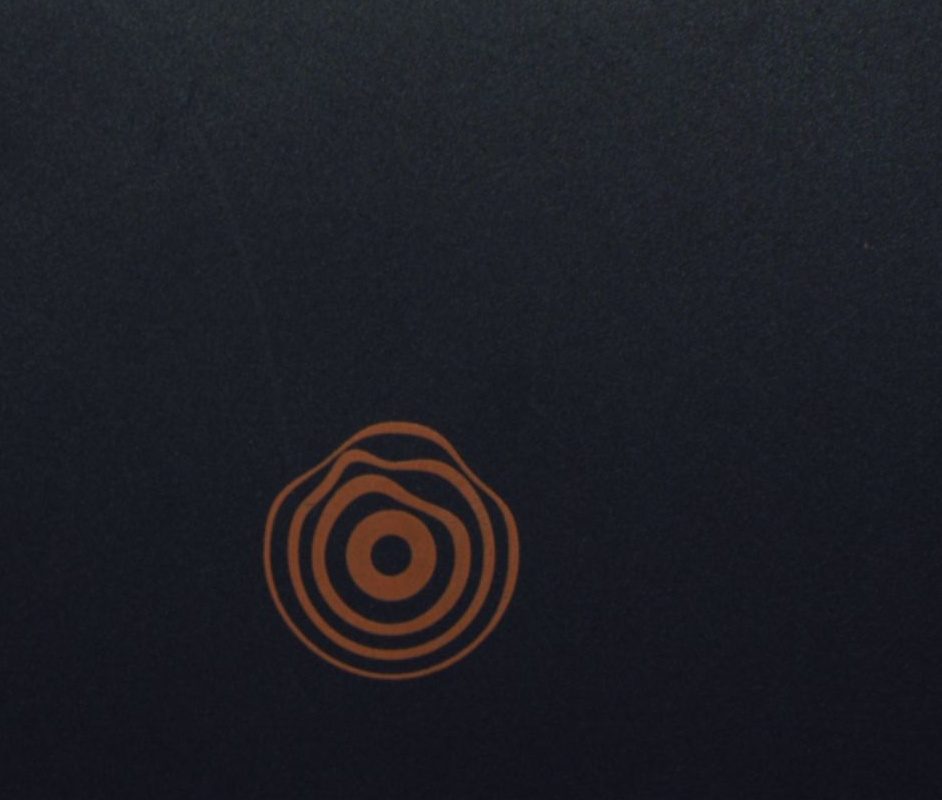BU_HG680GY: (258, 414, 527, 682)
